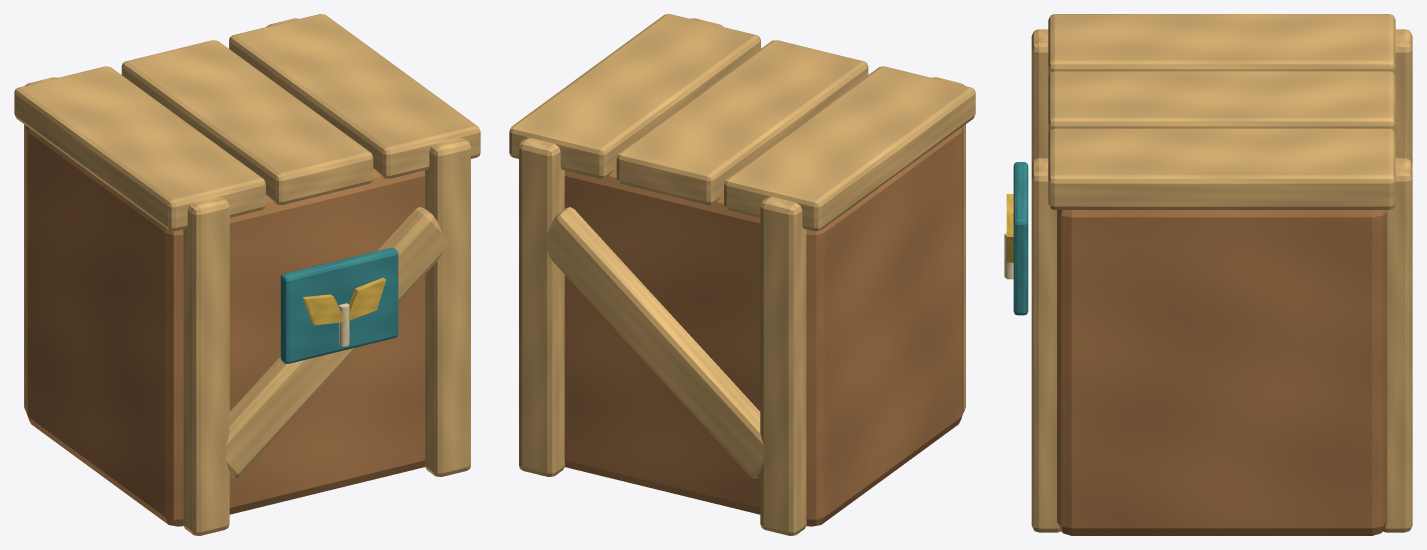
The model's file is camp-crate.glb.
3 renders of one model, left to right at view 1: azimuth 30°, elevation 25°; view 2: azimuth 150°, elevation 25°; view 3: azimuth 270°, elevation 25°, orthographic. The views are drawn at different scales.
Parts seen in each view (by area): view 1: camp-crate-mesh; view 2: camp-crate-mesh; view 3: camp-crate-mesh.
Boxes of the visible parts, bbox=[...] form: camp-crate-mesh: bbox=[14, 14, 480, 535]; camp-crate-mesh: bbox=[509, 14, 975, 535]; camp-crate-mesh: bbox=[1004, 14, 1412, 535].
Bounding box in the file's own units: 0.93 × 0.955 × 0.964.
Materials: 1 (1 with a texture image).
